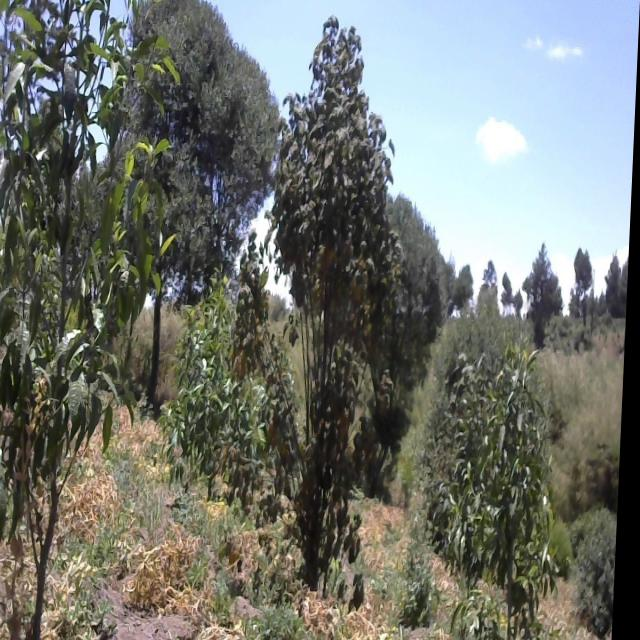Hass Avocado: (438, 338, 575, 640), (162, 274, 266, 507)
Salix alba: (109, 0, 282, 280), (425, 297, 554, 536), (367, 185, 456, 458), (582, 509, 622, 634)
cedrus: (522, 234, 564, 331), (572, 240, 601, 330), (606, 245, 631, 319)
other: (0, 0, 171, 636), (230, 16, 425, 555)
